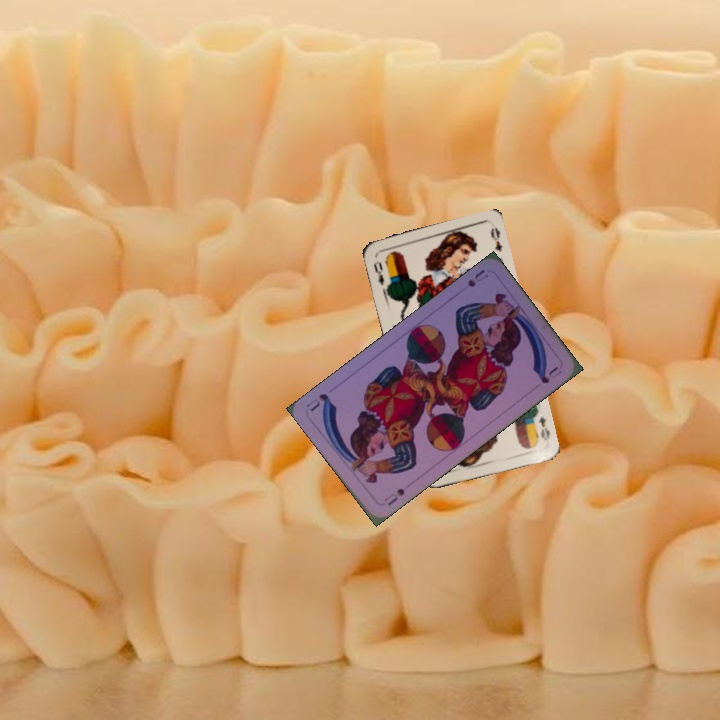EO: (535, 413, 553, 443), (370, 257, 387, 288)
SU: (463, 265, 491, 290), (380, 484, 407, 508)
